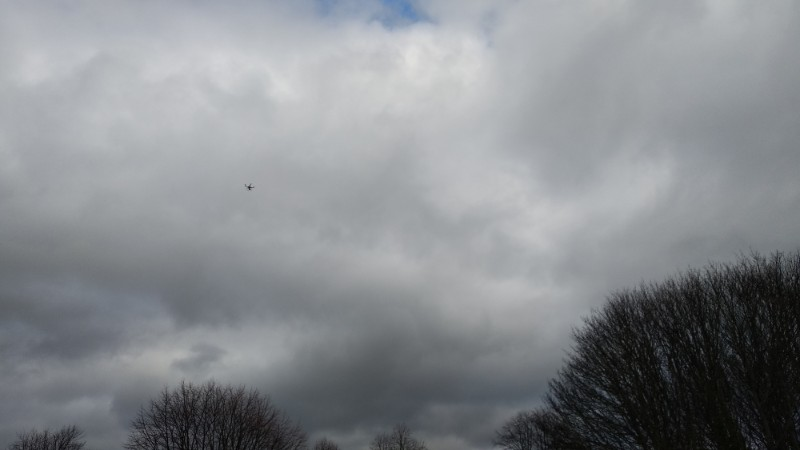drone: (245, 183, 255, 191)
